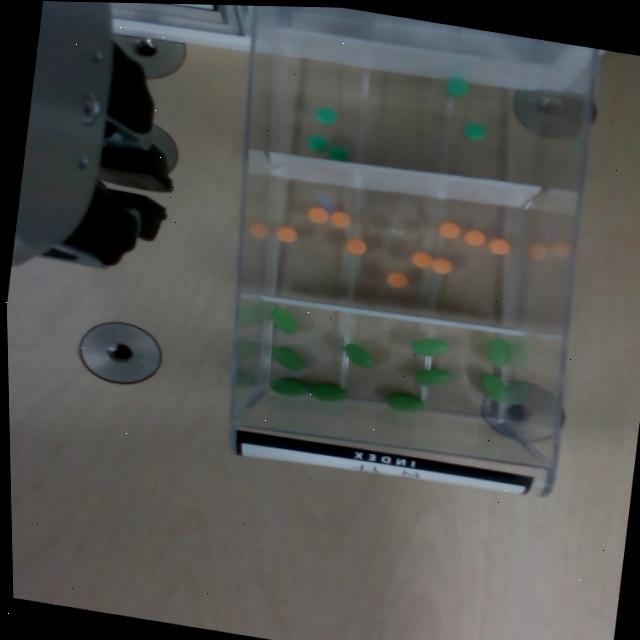famodine: (462, 121, 487, 142), (444, 79, 470, 98), (315, 106, 338, 126), (305, 134, 329, 152), (325, 147, 349, 163)
otillen_tab: (270, 346, 308, 375), (477, 373, 511, 405), (342, 341, 377, 370), (411, 334, 451, 359), (266, 308, 301, 336), (415, 366, 454, 390), (269, 377, 310, 399), (387, 391, 425, 414), (307, 383, 347, 403), (485, 338, 511, 368)
samsung_octylonium_tab: (384, 270, 409, 290), (487, 237, 511, 256), (463, 229, 487, 248), (328, 210, 352, 229), (411, 250, 433, 270), (305, 206, 329, 224), (438, 221, 460, 240), (430, 257, 453, 275), (275, 226, 298, 243), (346, 239, 368, 256)
